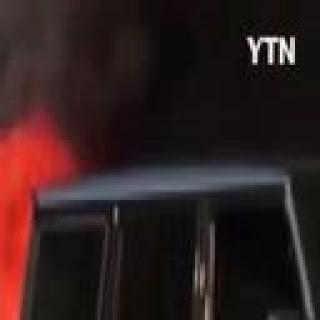fire: (0, 132, 78, 320)
